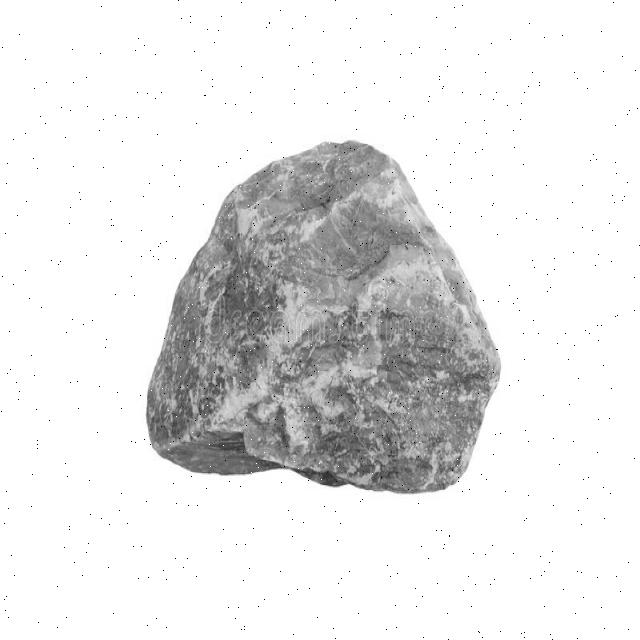Sedimentary: (146, 132, 513, 522)
